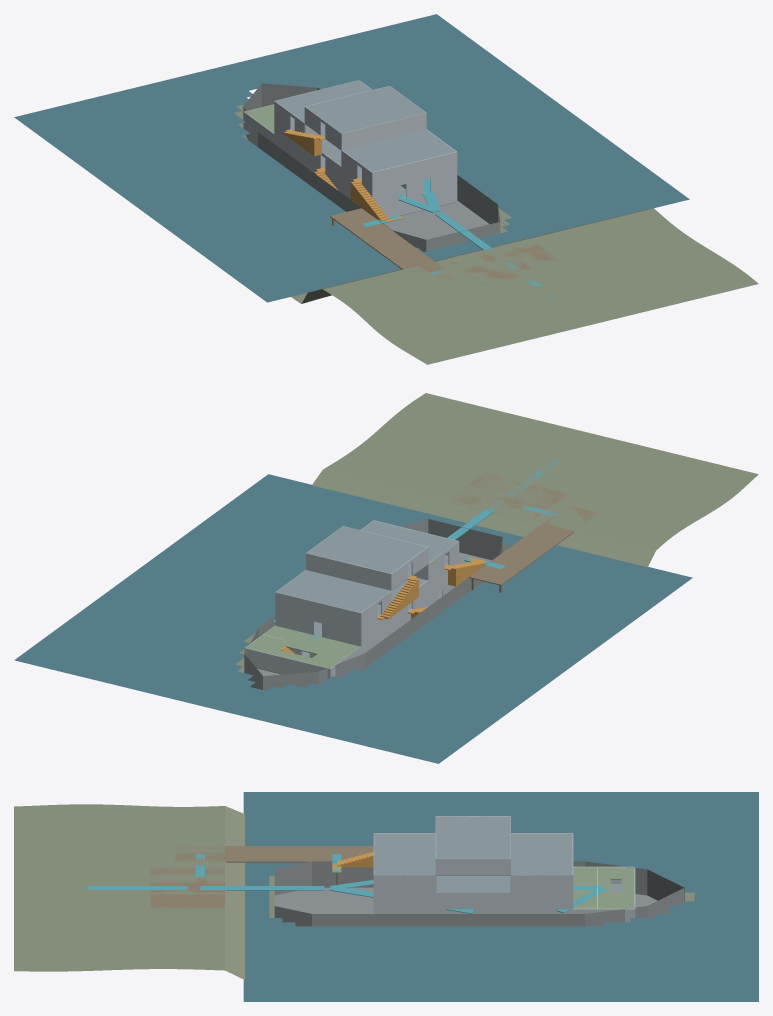
The model's file is deck-terrain.glb.
The picture shows the model from 3 angles, top to bottom: view 1: azimuth 30°, elevation 25°; view 2: azimuth 150°, elevation 25°; view 3: azimuth 270°, elevation 25°; orthographic projection.
Parts seen in each view (by area): view 1: WATER PLACEHOLDER / layers and transparency pending, Authored quay terrain, Pointed retired vessel hull / empty interior, Ceiling cap bridge, Ceiling cap crew, Wall crew S, Wall bridge S, Ceiling cap net, Floor exterior deck portpier 25, Wall engine S, Floor exterior deck portpier 21; view 2: WATER PLACEHOLDER / layers and transparency pending, Authored quay terrain, Pointed retired vessel hull / empty interior, Ceiling cap bridge, Ceiling cap net, Wall bridge N, Wall net N, Ceiling cap crew, Wall pump N, Floor exterior deck portpier 25, Floor exterior deck portpier 21, Wall processing N.001 (+2 smaller); view 3: WATER PLACEHOLDER / layers and transparency pending, Authored quay terrain, Pointed retired vessel hull / empty interior, Ceiling cap bridge, Ceiling cap net, Ceiling cap crew, Wall processing E, Wall bridge E, Ceiling cap processing, Wall net E, Wall mess E, Wall crew E (+10 smaller).
Boxes of the visible parts, bbox=[...] form: WATER PLACEHOLDER / layers and transparency pending: bbox=[14, 14, 689, 302]; Authored quay terrain: bbox=[234, 104, 758, 364]; Pointed retired vessel hull / empty interior: bbox=[243, 83, 500, 251]; Ceiling cap bridge: bbox=[306, 86, 425, 133]; Ceiling cap crew: bbox=[342, 130, 455, 171]; Wall crew S: bbox=[372, 151, 456, 188]; Wall bridge S: bbox=[341, 113, 426, 149]; Ceiling cap net: bbox=[275, 80, 371, 122]; Floor exterior deck portpier 25: bbox=[366, 223, 444, 272]; Wall engine S: bbox=[374, 185, 456, 217]; Floor exterior deck portpier 21: bbox=[352, 227, 427, 272]; WATER PLACEHOLDER / layers and transparency pending: bbox=[14, 474, 692, 763]; Authored quay terrain: bbox=[235, 393, 758, 686]; Pointed retired vessel hull / empty interior: bbox=[244, 519, 502, 690]; Ceiling cap bridge: bbox=[306, 526, 427, 573]; Ceiling cap net: bbox=[276, 570, 390, 612]; Wall bridge N: bbox=[306, 553, 391, 590]; Wall net N: bbox=[275, 592, 360, 629]; Ceiling cap crew: bbox=[361, 520, 458, 562]; Wall pump N: bbox=[245, 648, 329, 678]; Floor exterior deck portpier 25: bbox=[490, 516, 558, 565]; Floor exterior deck portpier 21: bbox=[506, 519, 588, 568]; Wall processing N.001: bbox=[275, 609, 314, 634]; WATER PLACEHOLDER / layers and transparency pending: bbox=[243, 792, 758, 1001]; Authored quay terrain: bbox=[14, 804, 694, 979]; Pointed retired vessel hull / empty interior: bbox=[274, 861, 684, 926]; Ceiling cap bridge: bbox=[436, 816, 510, 858]; Ceiling cap net: bbox=[511, 833, 572, 875]; Ceiling cap crew: bbox=[374, 833, 435, 875]; Wall processing E: bbox=[436, 892, 572, 909]; Wall bridge E: bbox=[436, 858, 510, 875]; Ceiling cap processing: bbox=[436, 876, 510, 891]; Wall net E: bbox=[510, 875, 572, 892]; Wall mess E: bbox=[374, 892, 435, 909]; Wall crew E: bbox=[374, 875, 435, 892].
Bounding box in the file's own units: 80 × 14.64 × 120.
